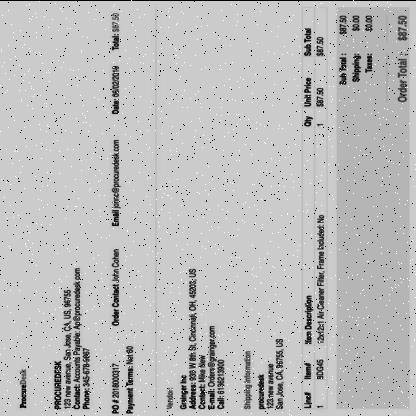Paragraph: (164, 266, 227, 410), (52, 266, 92, 410), (241, 336, 285, 410), (338, 14, 374, 85), (110, 344, 136, 414), (395, 14, 410, 102), (110, 138, 122, 226), (110, 247, 122, 326), (110, 64, 121, 115), (18, 367, 28, 409), (110, 12, 121, 50)
Table: (302, 6, 328, 408)
